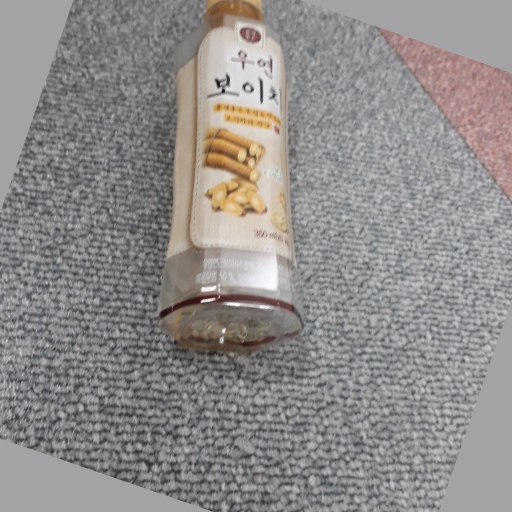Plastic_0: (166, 1, 306, 350)
